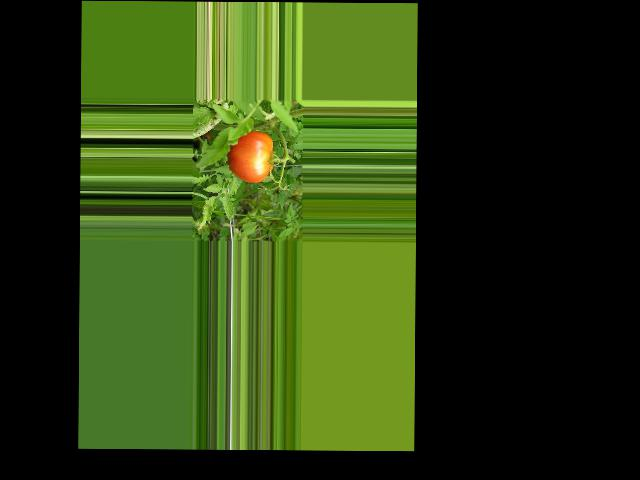tomato: (228, 131, 274, 182)
